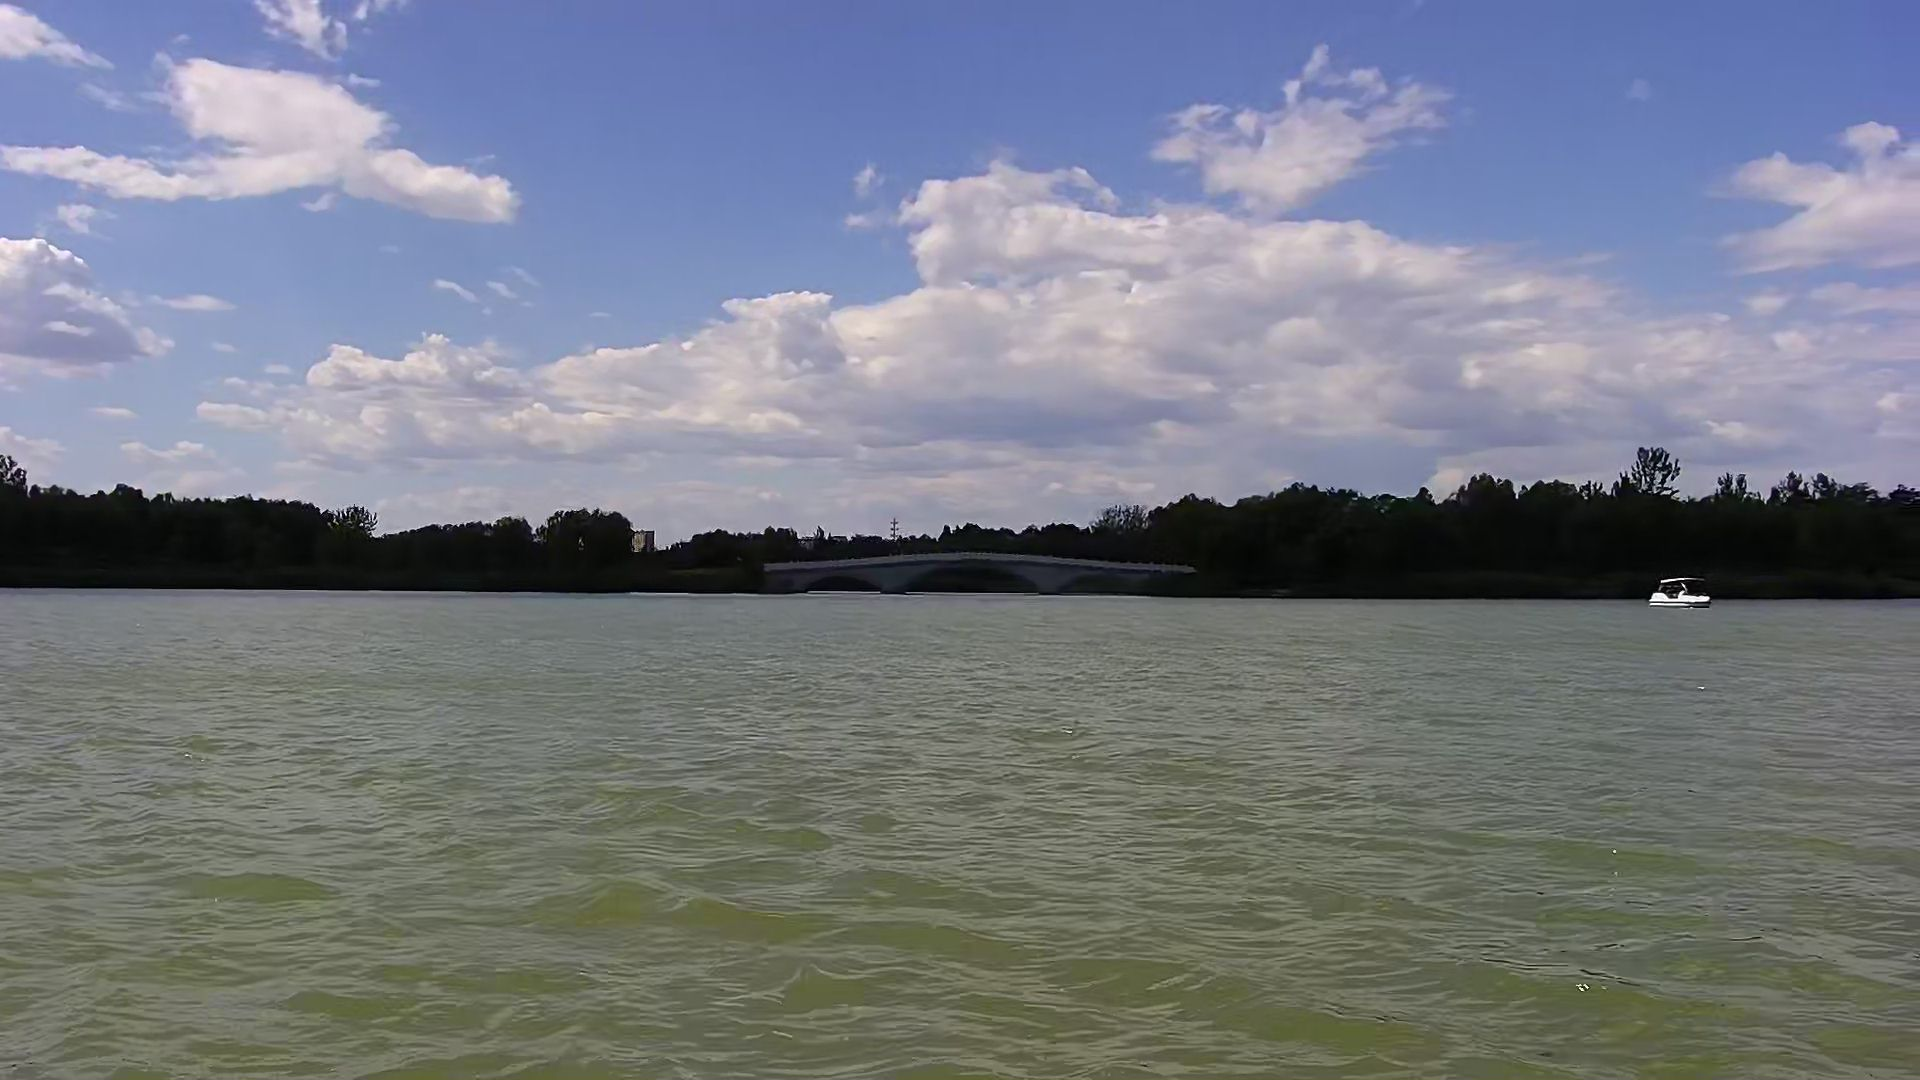boat: (1646, 571, 1716, 618)
bridge: (760, 545, 1208, 611)
